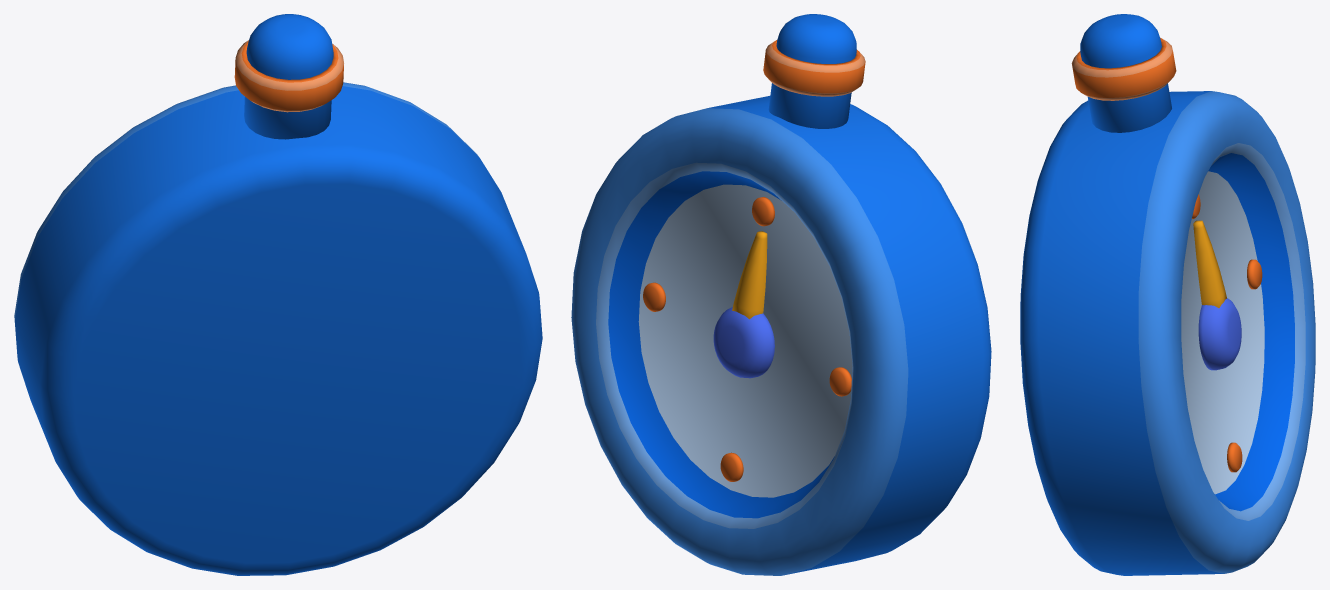
The model's file is Timer.fbx.
3 views of the same model, side by side, from view 1: azimuth 30°, elevation 25°; view 2: azimuth 150°, elevation 25°; view 3: azimuth 270°, elevation 25° (orthographic). The views are drawn at different scales.
Visible parts, largest first — view 1: Timer-Bost; view 2: Timer-Bost; view 3: Timer-Bost.
Part boxes in pixels (left/top/right/bottom): Timer-Bost: left=14, top=14, right=542, bottom=575; Timer-Bost: left=571, top=14, right=991, bottom=575; Timer-Bost: left=1020, top=14, right=1315, bottom=575.
Size of the model in its own units: 2.71 by 3.19 by 1.61.
1 material, 1 textured.
